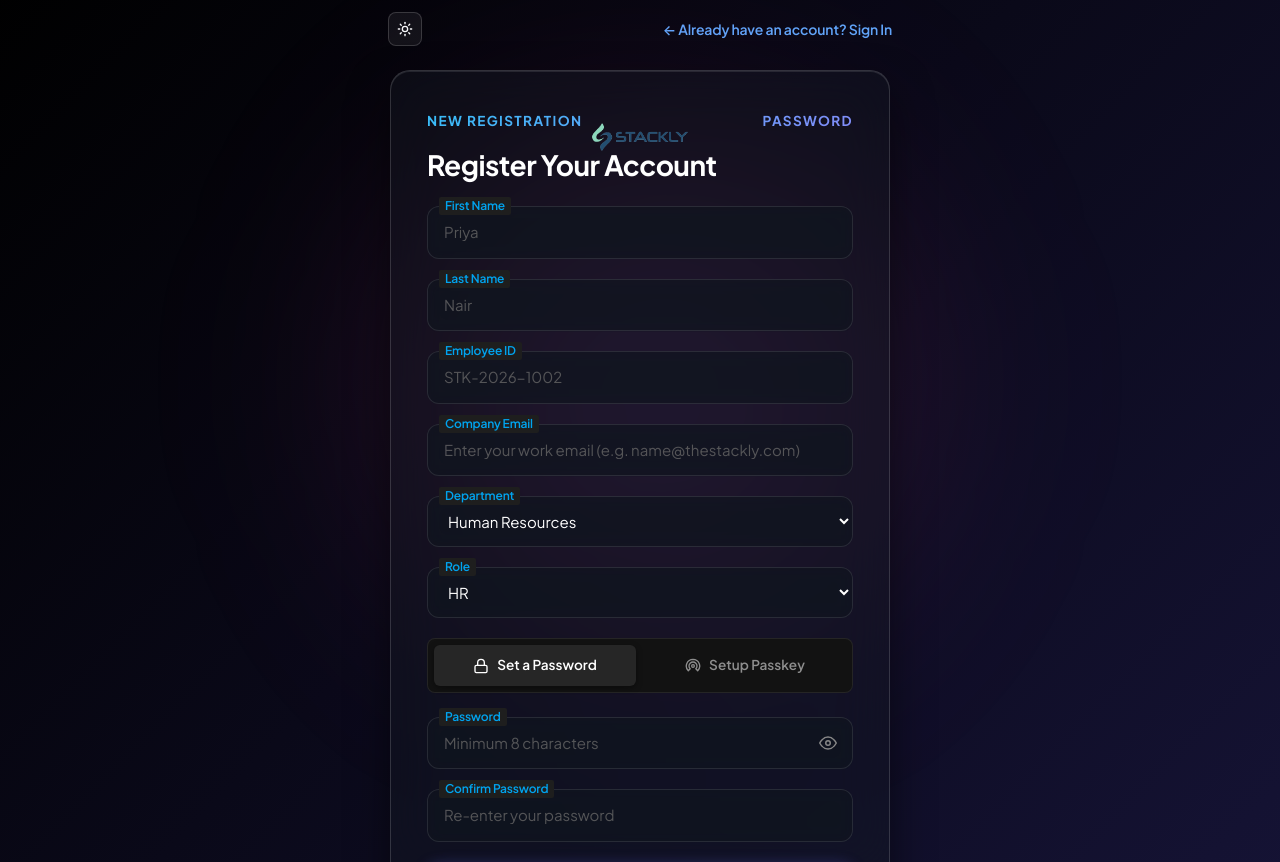
Test: Step 3: SignUpPage Component Unit Tests › 3.6 should toggle to Setup Passkey tab and display WebAuthn promo information
Click the tab "Setup Passkey". click: (745, 666)
box: [644,645,846,686]
(page scrolled)
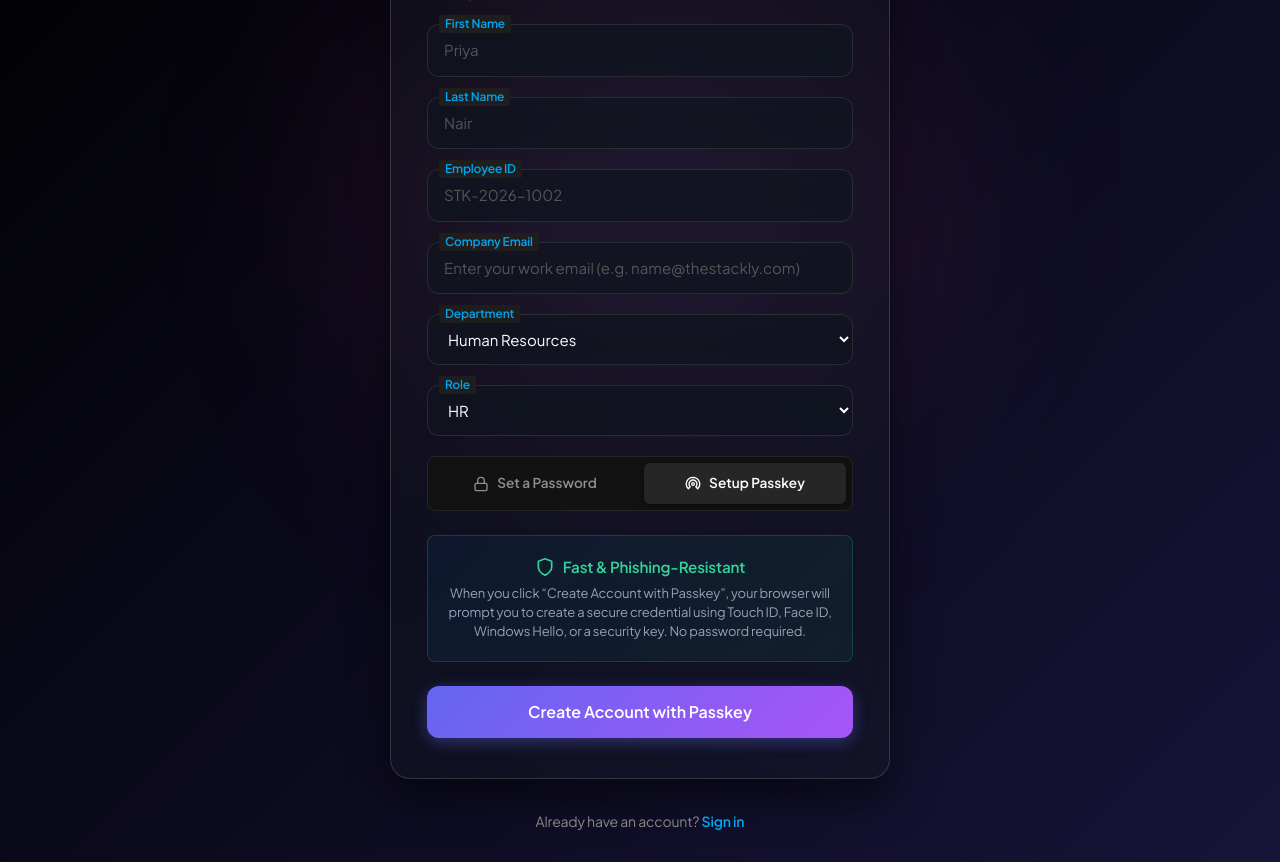
Result: the text "Fast & Phishing-Resistant" is shown at [563,556,745,579]
Result: the button "Create Account with Passkey" is shown at [427,686,853,738]
